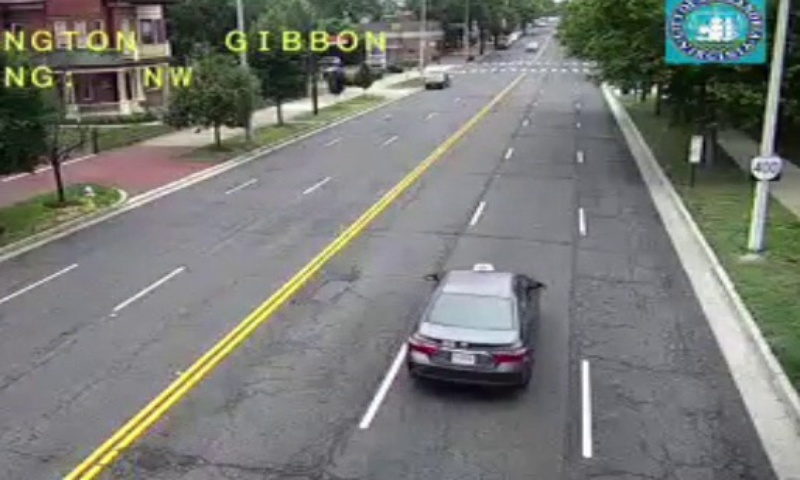car: (407, 268, 535, 388)
